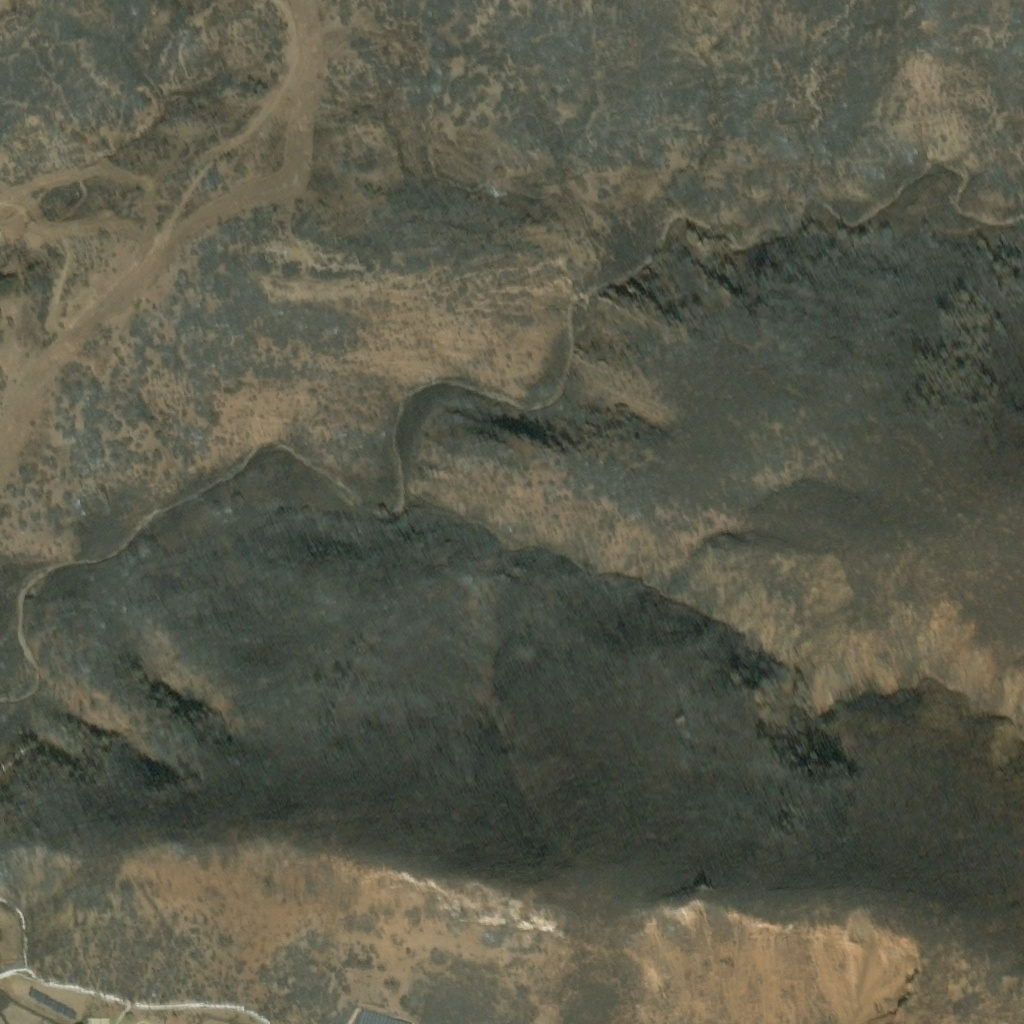0 no-damage: (25, 981, 74, 1011), (357, 1006, 410, 1023)
